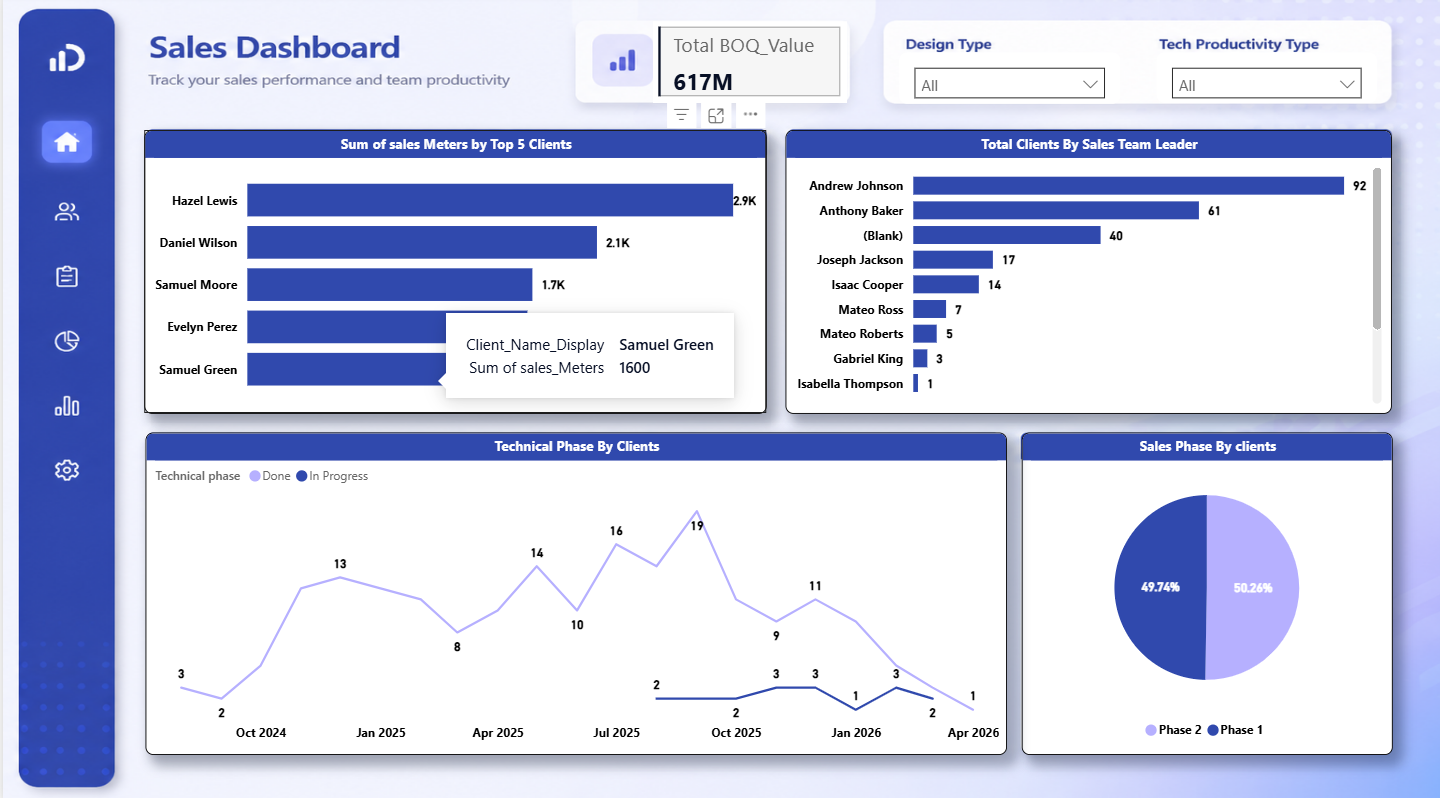

This screenshot's page, from the dashboard's own definition file:
{"tool":"powerbi","page":{"name":"Sales","canvas":[1280,720],"ordinal":1},"visuals":[{"type":"barChart","title":"Sum of sales Meters by Top 5 Clients","fields":{"Category":["SHCEMA.Client_Name_Display"],"Y":["Sum(SHCEMA.sales_Meters)"]},"box":[125.7,120,554.3,252.9],"z":0},{"type":"barChart","title":"Total Clients By Sales Team Leader","fields":{"Category":["SHCEMA.Assigned_To_Display"],"Y":["Count(SHCEMA.Client_Name)"]},"box":[697.1,120,540,252.9],"z":1000},{"type":"textbox","box":[0,0,269.5,52.4],"z":2000},{"type":"pieChart","title":"Sales Phase By clients","fields":{"Category":["SHCEMA.sales_Phase"],"Y":["Count(SHCEMA.Client_Name)"]},"box":[907.1,390,330,287.1],"z":3000},{"type":"slicer","fields":{"Values":["SHCEMA.Tech productivity type"]},"box":[1027.5,51.7,195.8,45],"z":4000},{"type":"lineChart","title":"Technical Phase By Clients ","fields":{"Y":["CountNonNull(SHCEMA.Client_Name)"],"Series":["SHCEMA.Technical phase"],"Category":["SHCEMA.actual start date.Variation.Date Hierarchy.Year","SHCEMA.actual start date.Variation.Date Hierarchy.Month"]},"box":[127.1,390,767.1,287.1],"z":5000},{"type":"slicer","fields":{"Values":["SHCEMA.desgin type"]},"box":[797.8,51.1,196.7,45.6],"z":6000},{"type":"cardVisual","fields":{"Data":["Sum(SHCEMA.BOQ_Value)"]},"box":[578.6,22.9,172.9,72.9],"z":8001}]}

Visuals, with their boxes on the page's 1280x720 design canvas (x1, y1, x2, y2). These are canvas units, not pixel positions in the 1440x798 screenshot, which may show the page scaled, cropped or inside an application window:
"Sum of sales Meters by Top 5 Clients" barChart: 126 120 680 373
"Total Clients By Sales Team Leader" barChart: 697 120 1237 373
textbox: 0 0 270 52
"Sales Phase By clients" pieChart: 907 390 1237 677
slicer - SHCEMA.Tech productivity type: 1028 52 1223 97
"Technical Phase By Clients " lineChart: 127 390 894 677
slicer - SHCEMA.desgin type: 798 51 994 97
cardVisual - Sum(SHCEMA.BOQ_Value): 579 23 752 96
